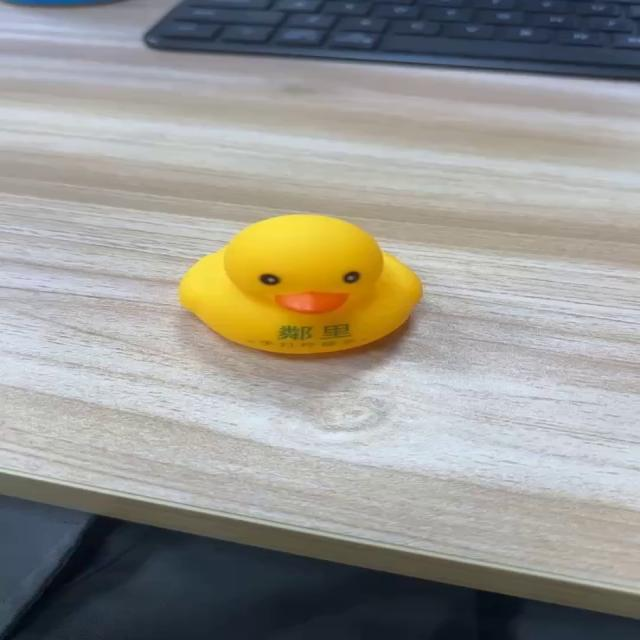yellow_duck: (177, 212, 423, 355)
